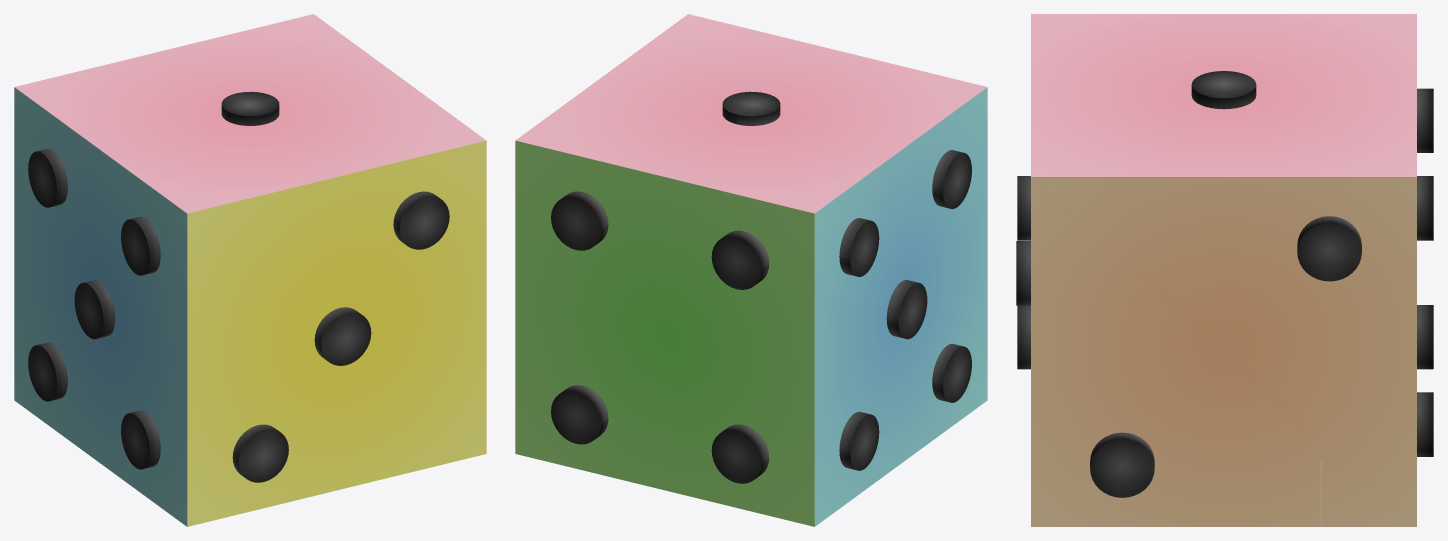
The model's file is Dice.fbx.
3 renders of one model, left to right at view 1: azimuth 30°, elevation 25°; view 2: azimuth 150°, elevation 25°; view 3: azimuth 270°, elevation 25°, orthographic. The views are drawn at different scales.
Parts seen in each view (by area): view 1: Cube, Cylinder.005; view 2: Cube, Cylinder.005; view 3: Cube, Cylinder.005.
Boxes of the visible parts, box(x1,y1,x2,y2) form: Cube: box(14, 14, 486, 526); Cylinder.005: box(28, 91, 449, 482); Cube: box(515, 14, 987, 526); Cylinder.005: box(551, 91, 971, 483); Cube: box(1031, 14, 1416, 526); Cylinder.005: box(1016, 71, 1433, 497).
Size of the model in its own units: 216 by 216 by 212.
Materials: 2 (2 with a texture image).
